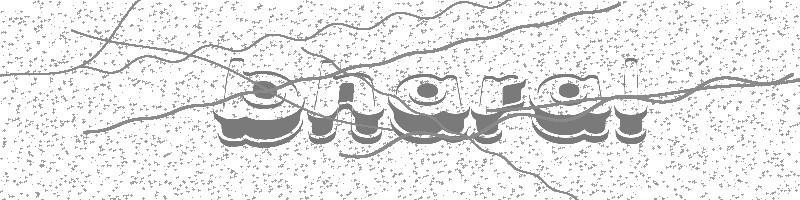a: (386, 73, 470, 144), (528, 73, 610, 145)
b: (211, 57, 305, 149)
h: (306, 58, 385, 145)
l: (614, 57, 647, 145)
r: (471, 73, 526, 145)
